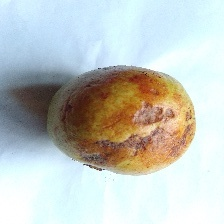guava: (17, 29, 192, 179)
